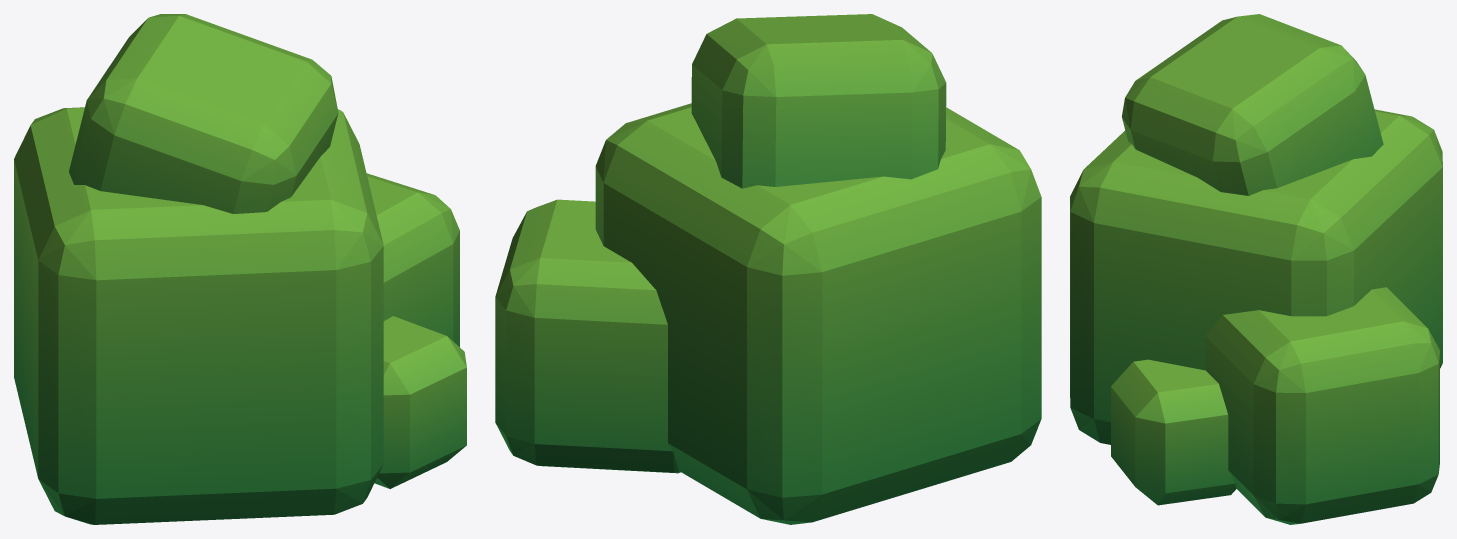
File: kf_bush_2_f.fbx
3 renders of one model, left to right at view 1: azimuth 30°, elevation 25°; view 2: azimuth 150°, elevation 25°; view 3: azimuth 270°, elevation 25°, orthographic. The views are drawn at different scales.
Visible parts, largest first — view 1: kf_bush_2_f_LOD0; view 2: kf_bush_2_f_LOD0; view 3: kf_bush_2_f_LOD0.
Part boxes in pixels (x1=…): kf_bush_2_f_LOD0: x1=14, y1=14, x2=466, y2=524; kf_bush_2_f_LOD0: x1=495, y1=14, x2=1041, y2=524; kf_bush_2_f_LOD0: x1=1070, y1=14, x2=1442, y2=524.
Size of what is drawn, in the model's own units: 3.21 by 2.87 by 2.55.
Materials: 1 (1 with a texture image).
